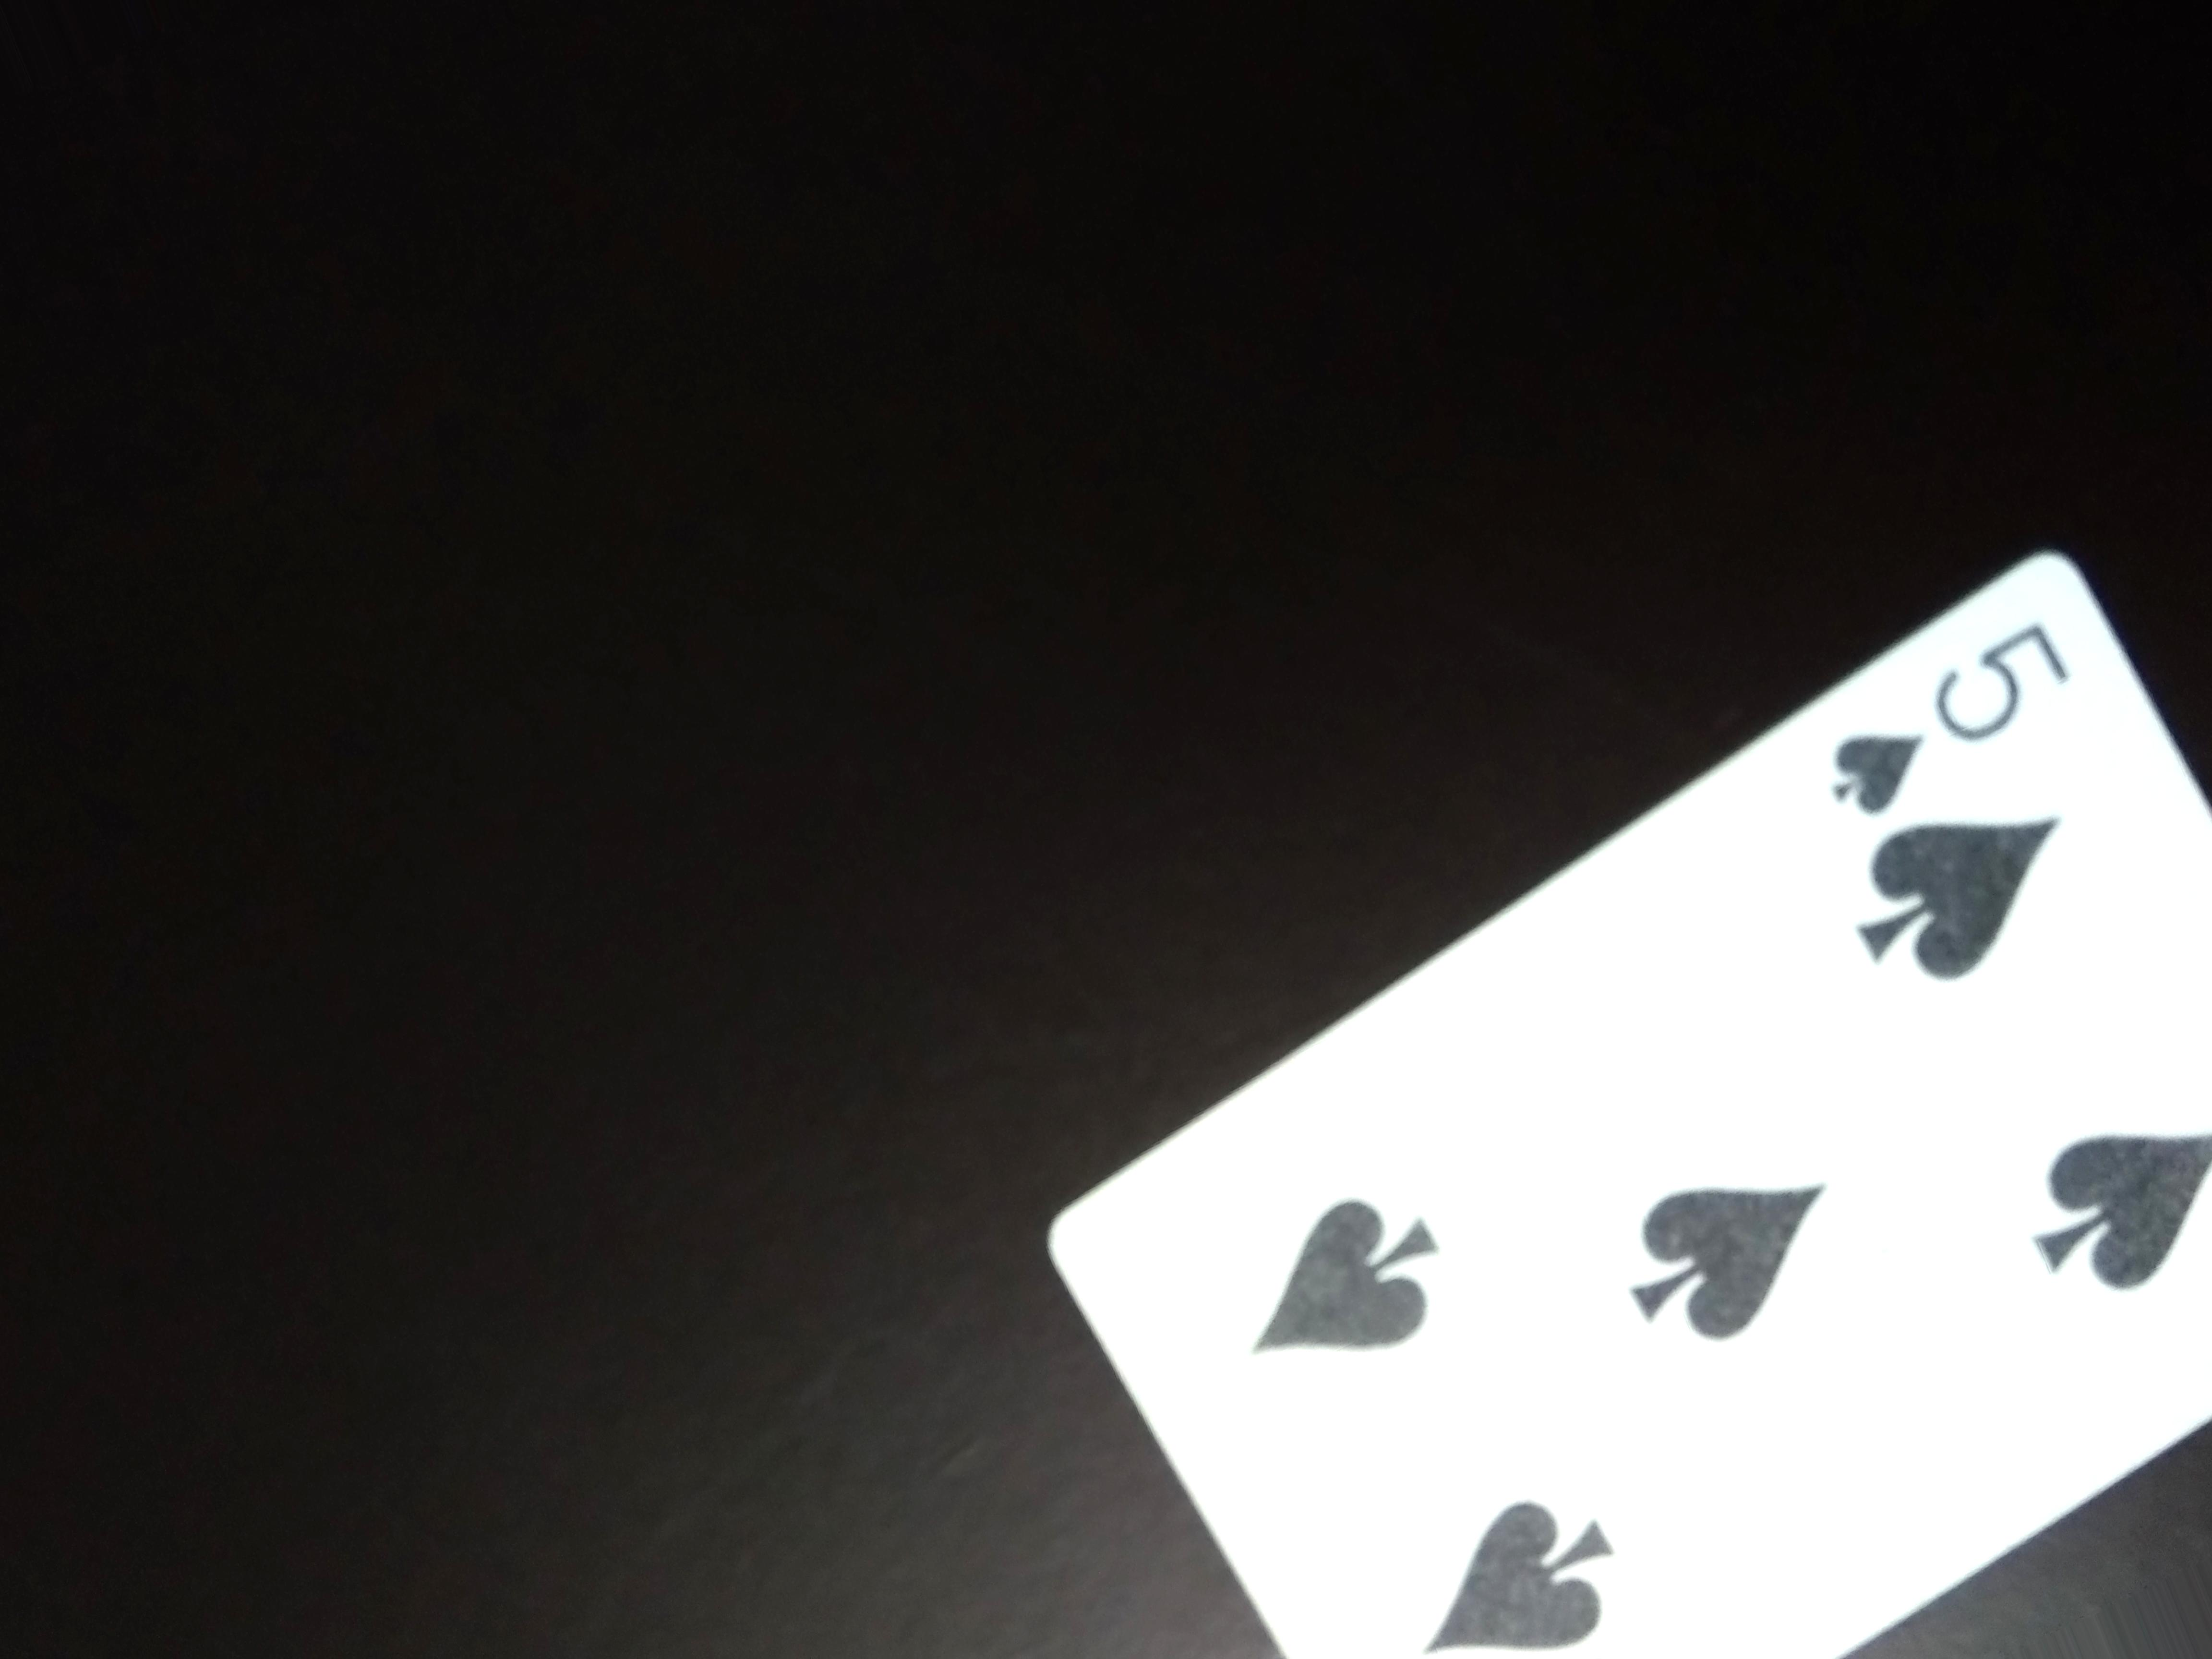5S: (1808, 615, 2078, 817)
